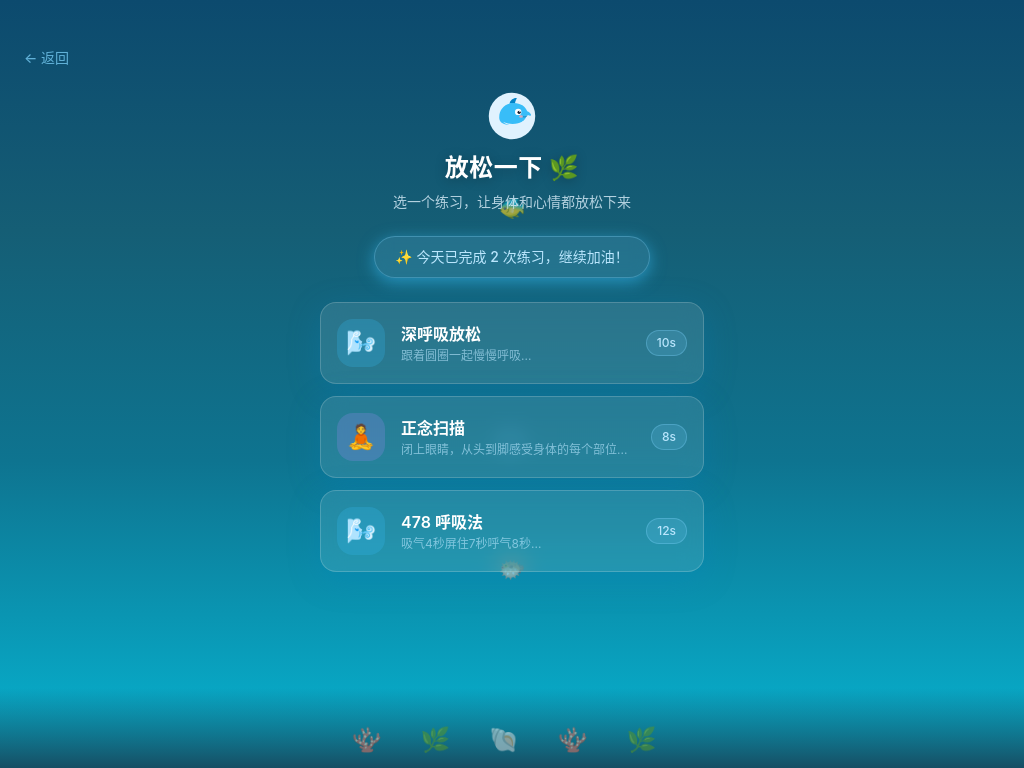
it: RelaxationExercises › 点击练习进入执行器（呼吸类显示吸气）
# 等待列表加载（fake timers 下 api promise 仍能 resolve）
What coordinates should you click on to do the following:
click the text "深呼吸放松"
I would click on:
 (441, 334)
Its box is left=401, top=324, right=481, bottom=344.
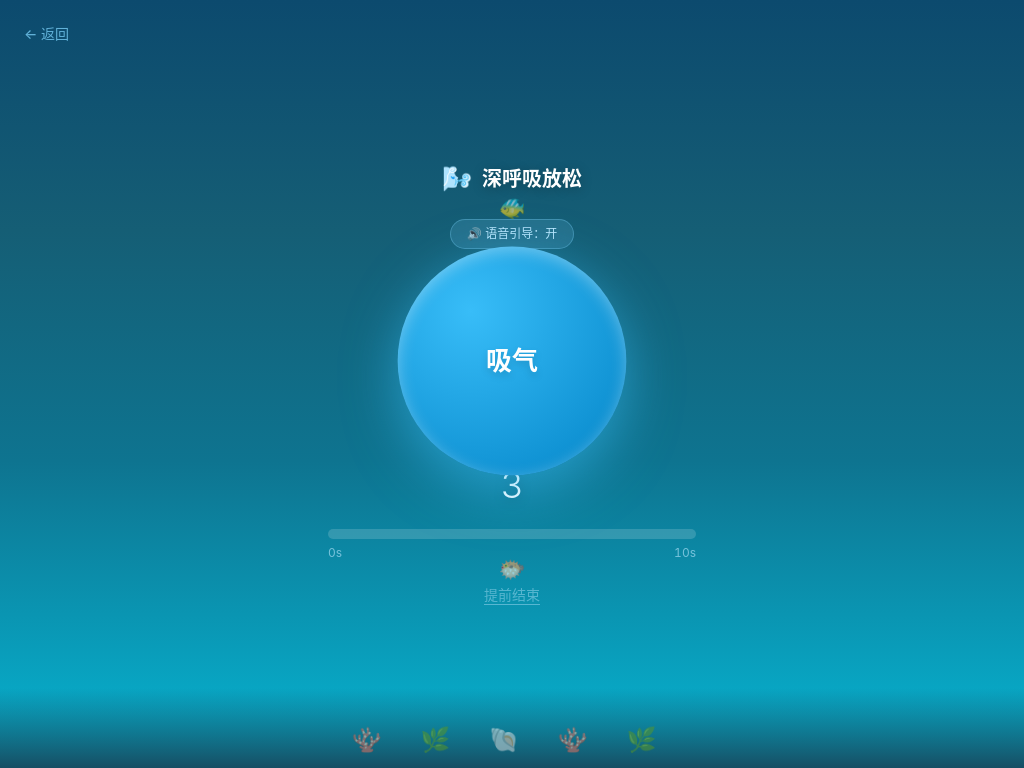
expect the text "吸气" is shown: met, box left=486, top=343, right=538, bottom=379
expect the button "🔊 语音引导：开" is shown: met, box left=450, top=219, right=574, bottom=249
